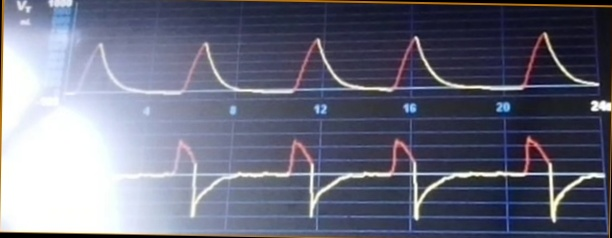Normal Flow: (106, 129, 603, 228)
Normal Volume: (69, 28, 596, 99)
